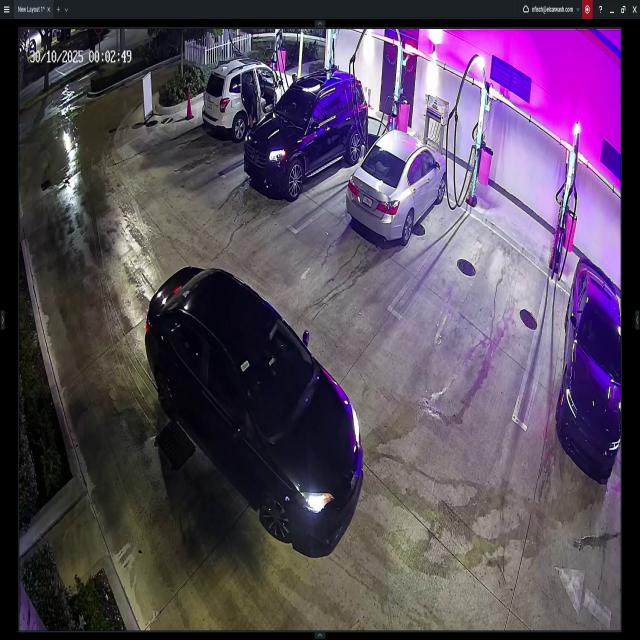Car: (147, 258, 363, 553), (553, 253, 622, 477), (243, 77, 365, 198), (348, 130, 446, 246), (201, 62, 306, 143)
